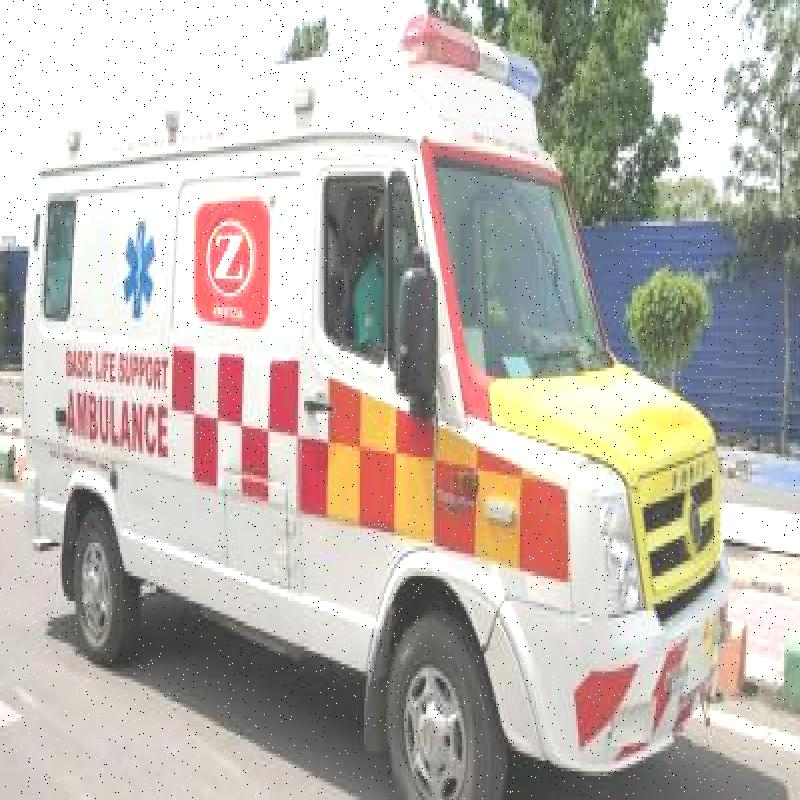AmbulanceSiren: (392, 0, 556, 114)
ambulance: (0, 0, 742, 800)
